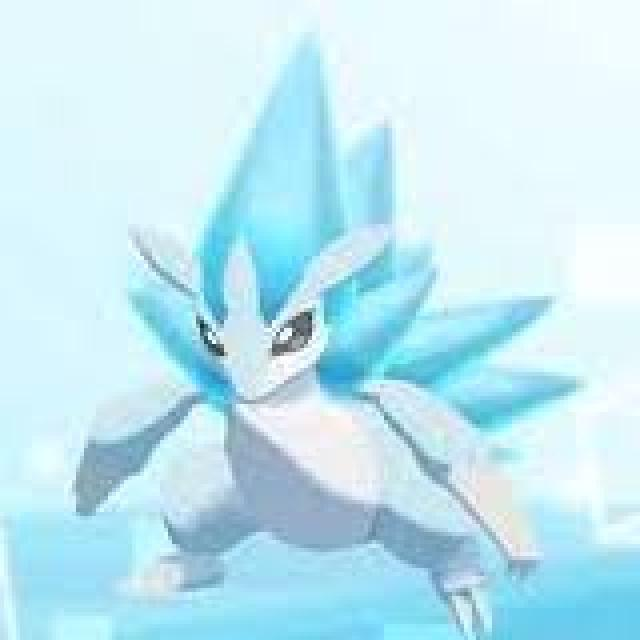Alolan: (83, 56, 536, 601)
